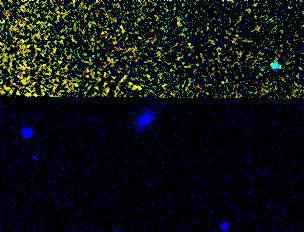star: (258, 44, 288, 74)
